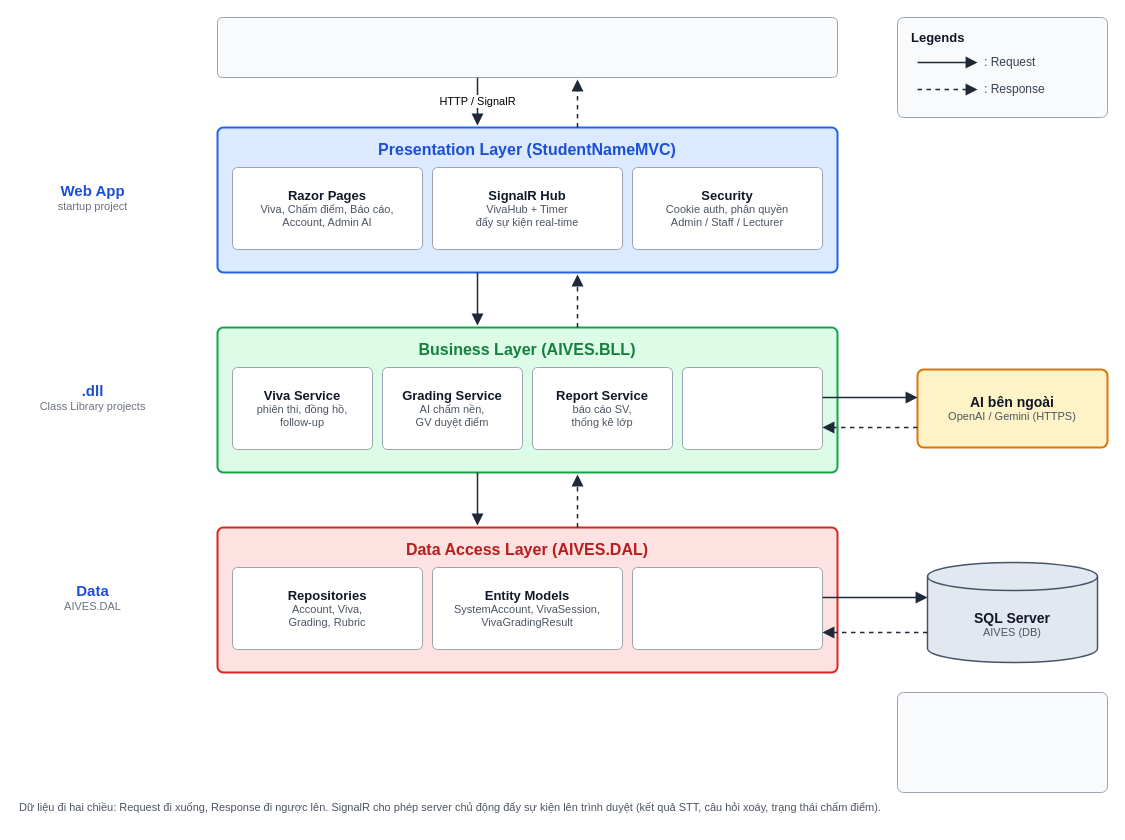
Some shapes in this 1125 by 840 pixel diagram are drawn without their labels. The centre of each missing label's shape, as x and y in pixels:
"AI Providers STT, TTS, LLM OpenAI / Gemini" belongs at point 752,408.
"AIVESDbContext EF Core (Database First)" belongs at point 727,608.
"Project references Web → BLL, DAL (DAL chỉ để đăng ký DI) BLL → DAL" belongs at point 1002,742.
"Trình duyệt (người dùng) HTML, Bootstrap, SignalR client, ghi âm JS" belongs at point 527,47.
